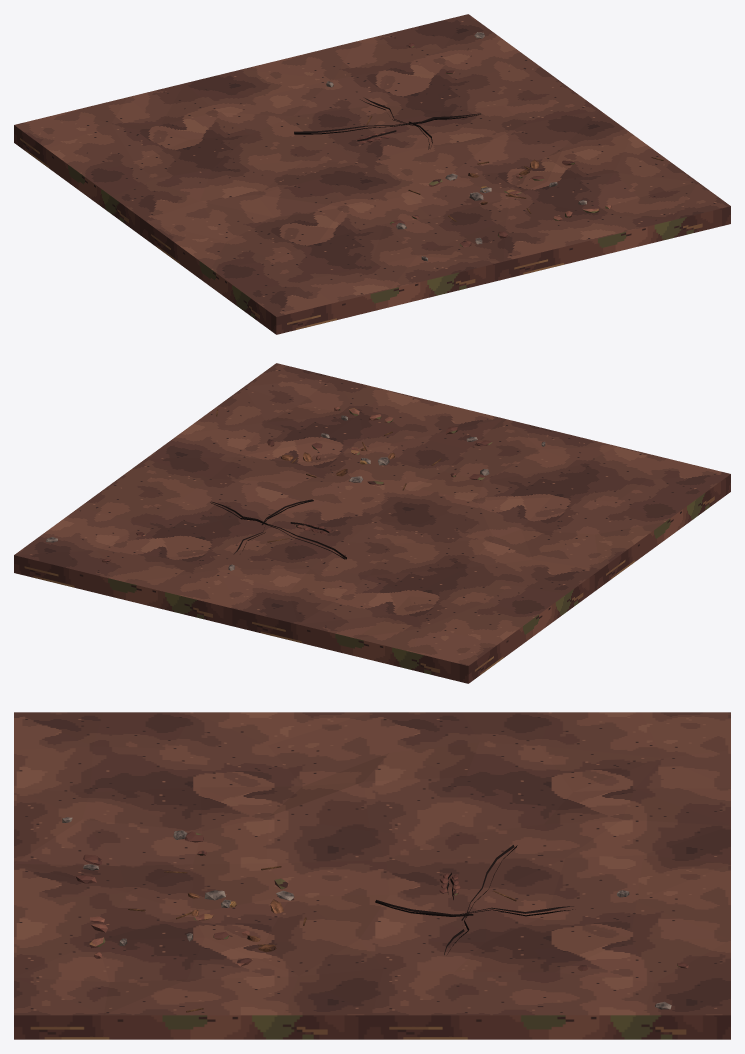
Rendered from SM_AN06_EarthFloor_C.fbx.
The picture shows the model from 3 angles, top to bottom: view 1: azimuth 30°, elevation 25°; view 2: azimuth 150°, elevation 25°; view 3: azimuth 270°, elevation 25°; orthographic projection. The views are drawn at different scales.
Parts seen in each view (by area): view 1: AN06c_Floor, AN06c_Earth, AN06c_Props; view 2: AN06c_Floor, AN06c_Earth, AN06c_Props; view 3: AN06c_Floor, AN06c_Earth, AN06c_Props.
Boxes of the visible parts, x1,y1,x2,y2 form: AN06c_Floor: (14, 14, 730, 316); AN06c_Earth: (14, 43, 730, 334); AN06c_Props: (294, 32, 663, 261); AN06c_Floor: (14, 363, 730, 665); AN06c_Earth: (14, 406, 730, 683); AN06c_Props: (46, 409, 545, 570); AN06c_Floor: (14, 712, 730, 1015); AN06c_Earth: (14, 831, 730, 1039); AN06c_Props: (62, 817, 671, 1012).
Bounding box in the file's own units: 4 × 0.1939 × 4.
